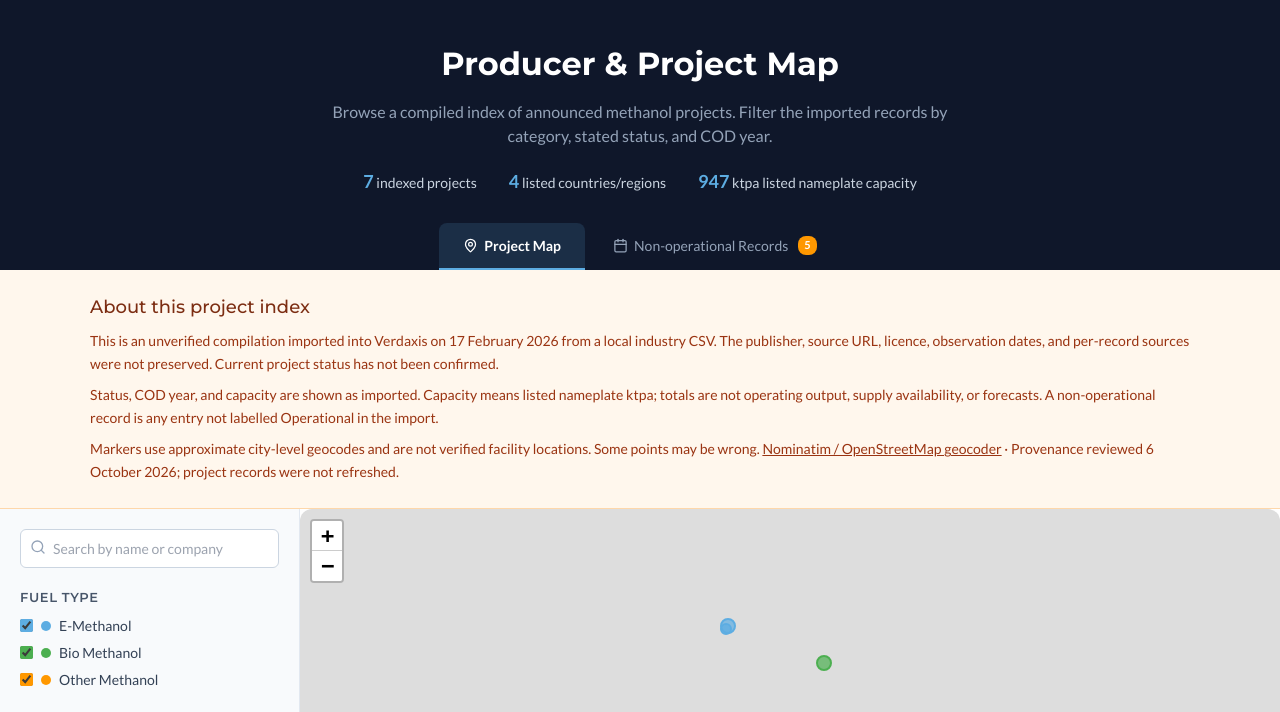
ProducerMapPage - Future Production tab › uses the singular project label for one project
Click the button "Non-operational Records 5": (715, 246) [589, 223, 841, 270]
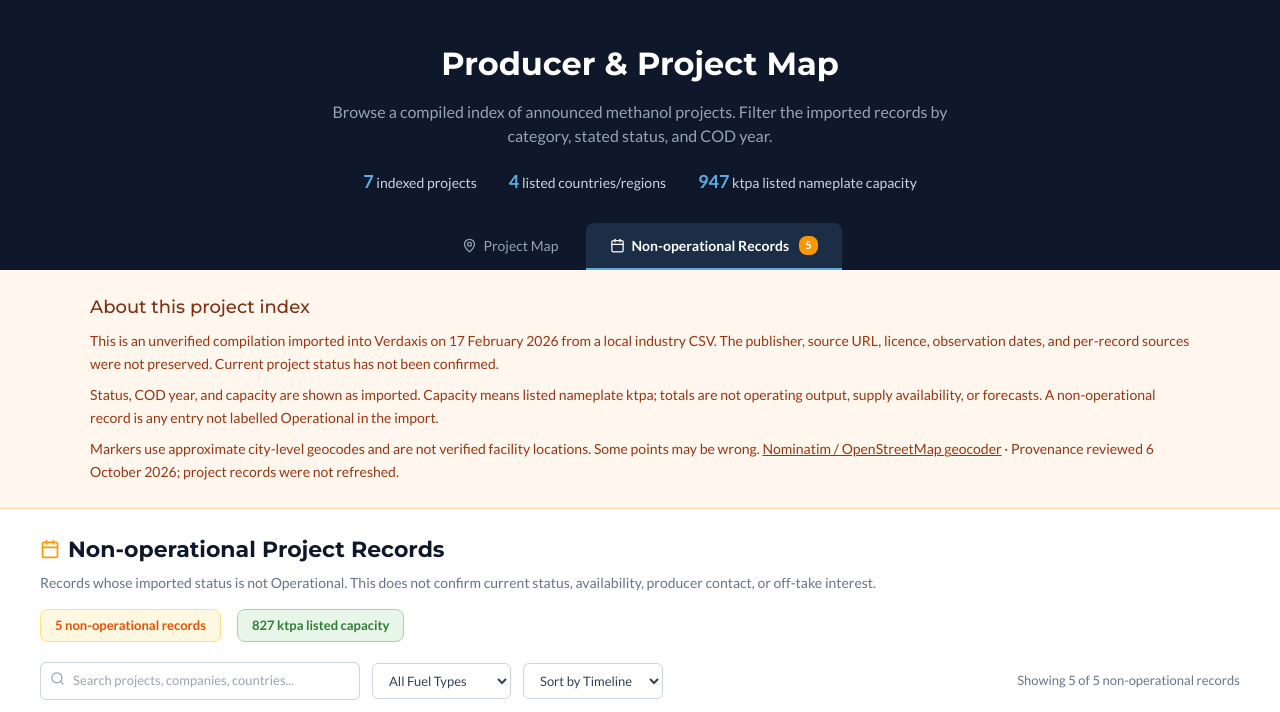
In the field with placeholder "Search projects, companies, countries...": (200, 681) [40, 662, 360, 700], type "Triskelion"
(page scrolled)
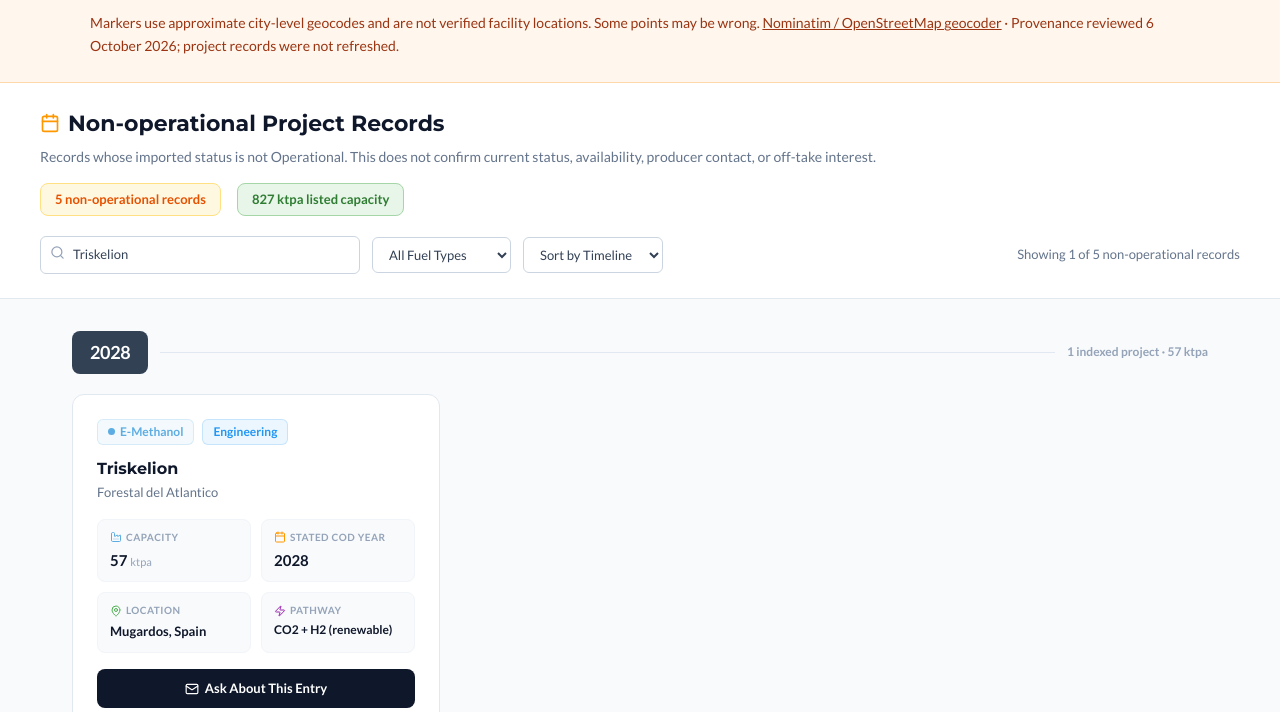
Check: the text "1 indexed project · 57 ktpa" is shown, box [1067, 343, 1208, 361]
